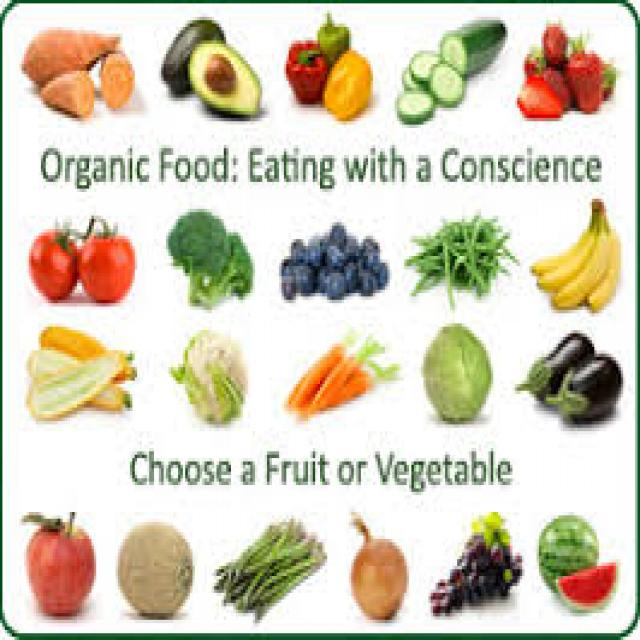organic waste: (212, 516, 325, 624), (402, 209, 517, 303), (530, 195, 618, 310), (428, 509, 522, 613), (277, 216, 387, 300), (166, 206, 248, 303), (19, 509, 94, 613), (166, 327, 243, 424), (24, 344, 130, 414), (418, 320, 488, 421), (118, 519, 190, 613), (27, 350, 132, 411), (347, 515, 404, 620), (282, 327, 358, 404), (512, 330, 594, 401), (190, 37, 260, 118), (19, 27, 118, 84), (542, 350, 618, 421), (306, 337, 376, 414), (296, 357, 399, 408), (534, 512, 597, 593), (36, 323, 135, 374), (159, 17, 221, 98), (77, 219, 132, 303), (527, 199, 592, 269), (548, 229, 604, 307), (438, 13, 505, 78), (534, 219, 599, 286), (320, 47, 371, 118), (29, 226, 77, 300), (551, 559, 618, 606), (284, 37, 330, 104), (585, 222, 618, 314), (38, 67, 92, 118), (566, 44, 599, 108), (96, 44, 130, 104), (515, 70, 558, 114), (428, 58, 462, 104), (317, 14, 349, 61), (392, 88, 433, 121), (407, 47, 440, 81), (438, 239, 455, 303), (544, 64, 570, 104), (541, 21, 563, 68), (399, 61, 428, 91), (597, 57, 616, 98), (522, 44, 544, 74), (322, 266, 342, 293), (281, 260, 296, 296), (296, 262, 313, 290), (328, 222, 347, 246), (373, 256, 387, 286), (306, 229, 318, 263), (344, 260, 359, 286), (358, 266, 371, 290), (291, 232, 303, 256), (329, 250, 342, 270), (361, 232, 375, 250), (320, 229, 332, 249), (363, 249, 378, 263), (346, 235, 358, 252)
